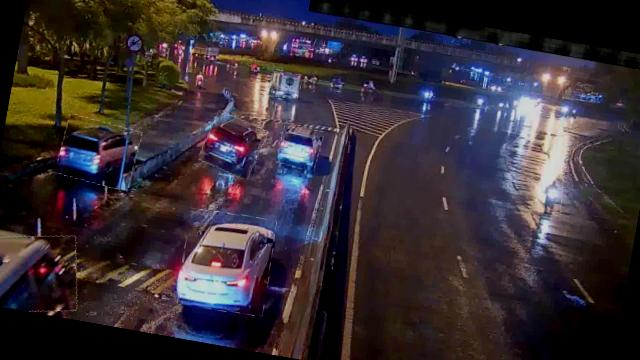Bike: (536, 175, 566, 218)
Bus: (0, 225, 86, 318)
Car: (174, 206, 278, 318), (55, 114, 142, 190), (199, 110, 267, 178), (275, 122, 324, 172)
Truck: (268, 69, 302, 102)
